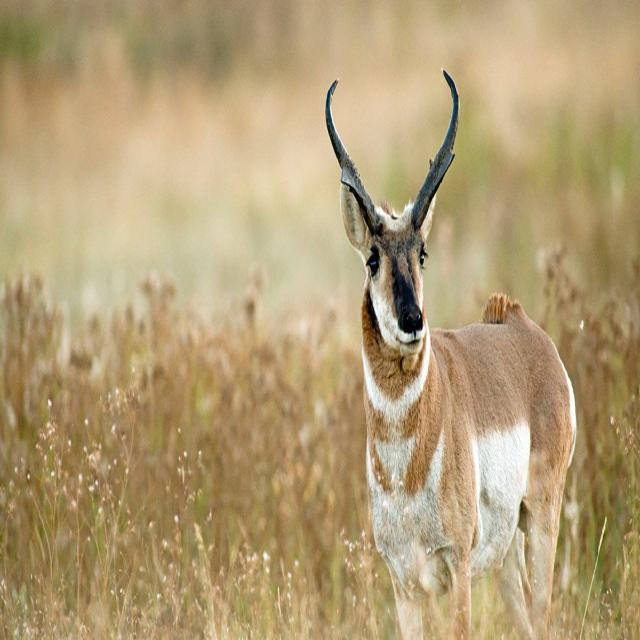Antelope: (316, 60, 576, 626)
